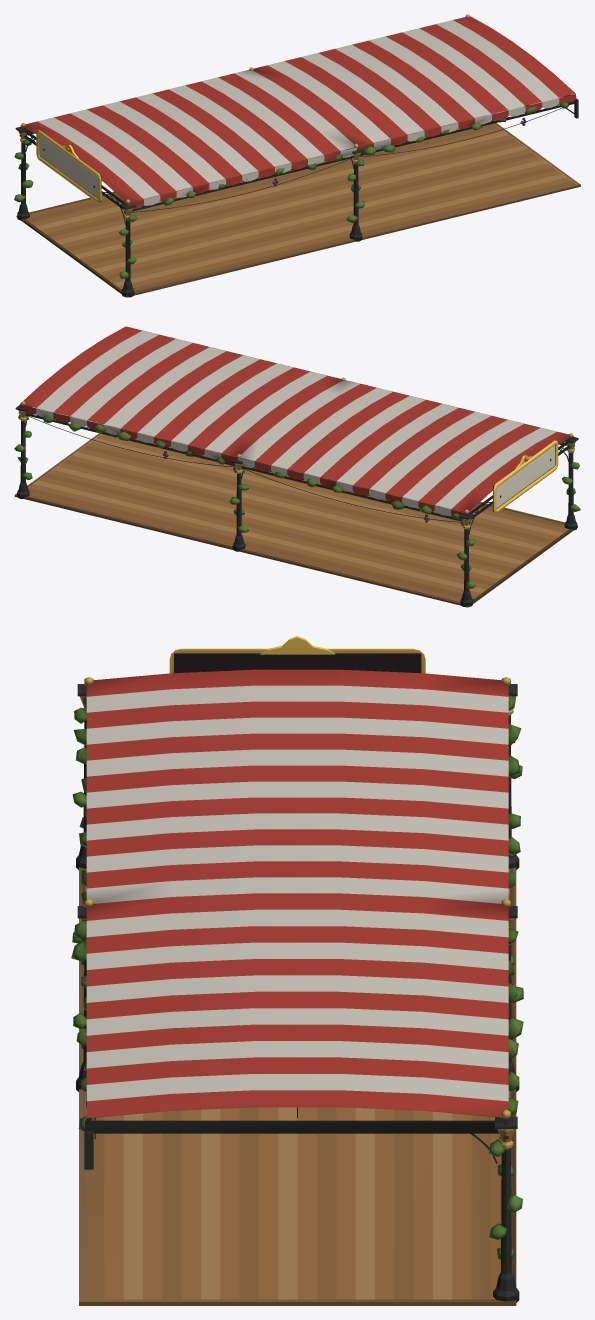
Rendered from pav_cardveranda.glb.
The picture shows the model from 3 angles, top to bottom: view 1: azimuth 30°, elevation 25°; view 2: azimuth 150°, elevation 25°; view 3: azimuth 270°, elevation 25°; orthographic projection. The views are drawn at different scales.
Visible parts, largest first — view 1: static_cardveranda; view 2: static_cardveranda; view 3: static_cardveranda.
Boxes of the visible parts, left/top/right/bottom form: static_cardveranda: left=14, top=14, right=580, bottom=297; static_cardveranda: left=14, top=326, right=580, bottom=607; static_cardveranda: left=71, top=636, right=523, bottom=1305.
Bounding box in the file's own units: 13.75 × 3.21 × 5.86.
